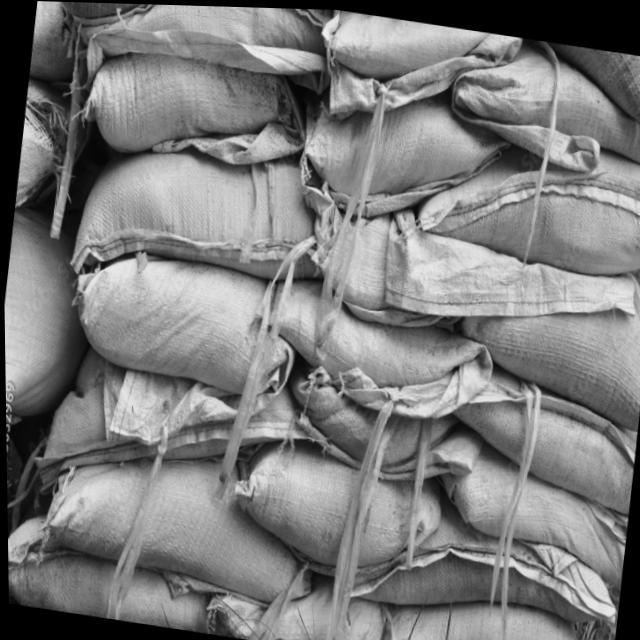sack: (35, 426, 323, 606), (29, 342, 312, 513), (66, 124, 331, 306), (246, 265, 498, 421), (62, 242, 300, 399), (222, 430, 446, 590), (412, 123, 640, 280), (451, 245, 640, 425), (346, 511, 621, 634), (293, 78, 507, 231), (78, 44, 312, 172), (433, 431, 634, 580), (442, 34, 640, 181), (450, 361, 640, 511), (312, 7, 524, 139), (6, 509, 216, 632), (83, 2, 328, 105), (283, 356, 482, 479), (300, 194, 471, 333), (201, 559, 387, 640), (376, 583, 597, 640)
